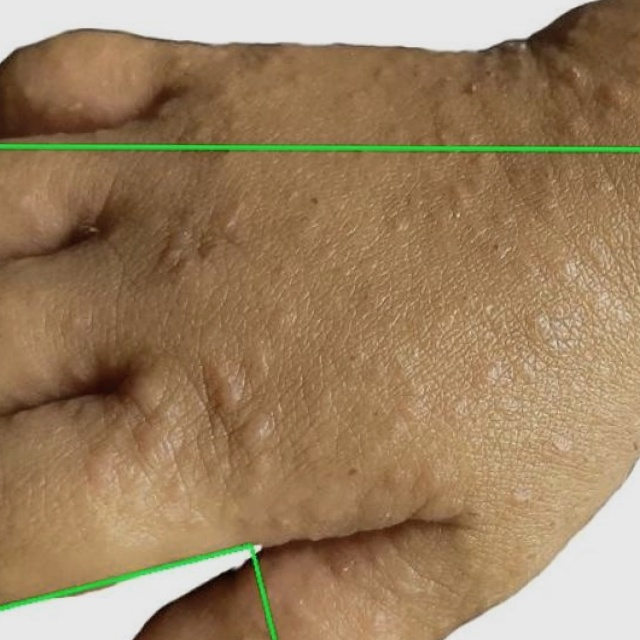Contact Dermatitis: (0, 0, 639, 149), (0, 543, 276, 639)
